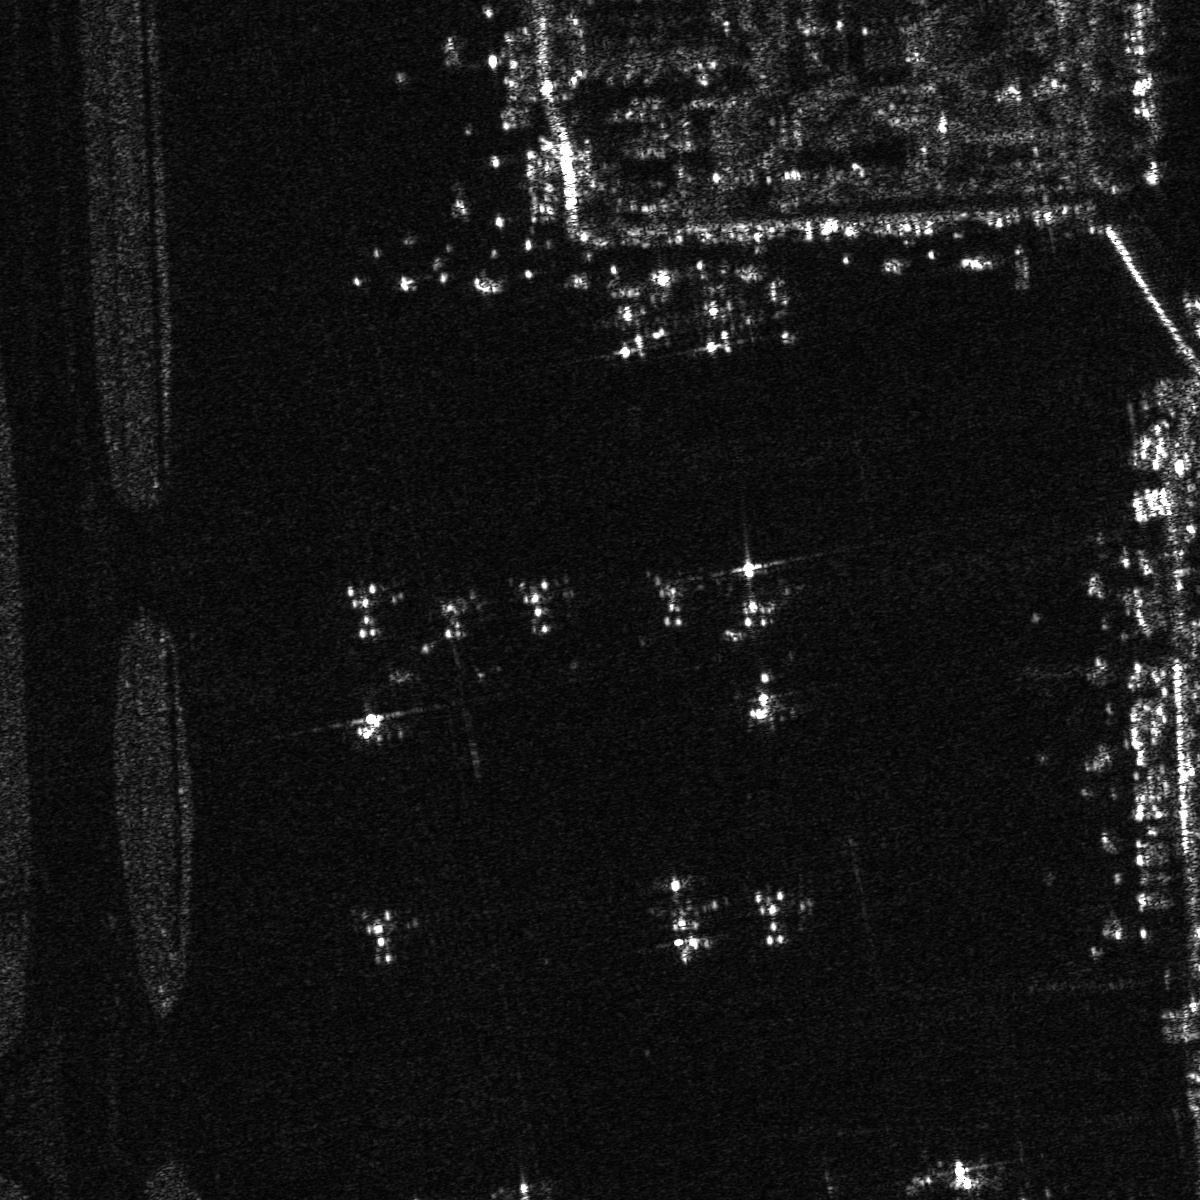A220: (742, 879, 802, 953)
ARJ21: (352, 898, 405, 973), (740, 665, 793, 736), (757, 263, 800, 345), (347, 698, 403, 744)
Boeing737: (592, 276, 680, 362)
other: (638, 867, 736, 968), (718, 544, 795, 651), (689, 273, 755, 355), (415, 587, 492, 657), (338, 571, 385, 649), (516, 578, 565, 647), (647, 574, 695, 640)
